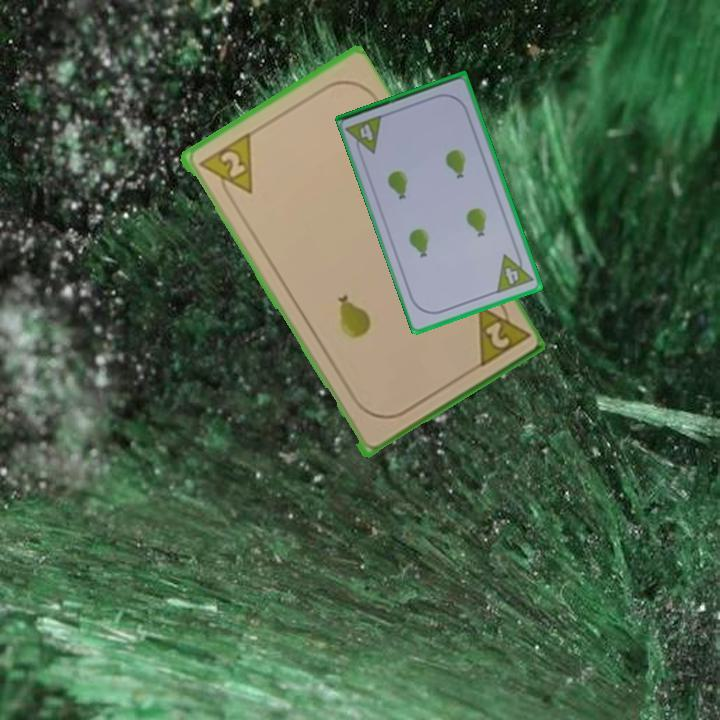2p: (193, 130, 256, 206), (471, 292, 530, 372)
4p: (493, 247, 536, 296), (343, 111, 386, 160)
